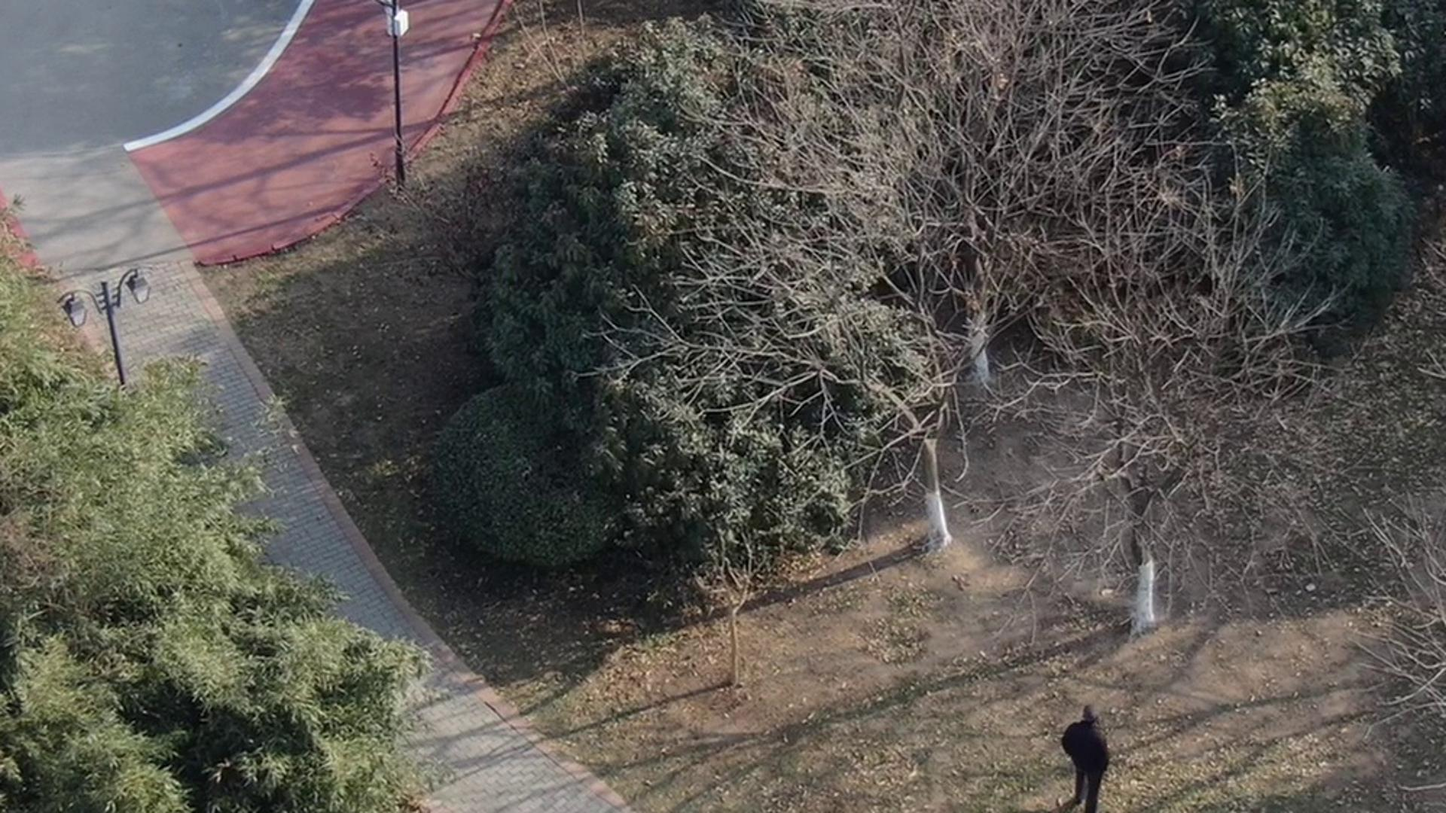human: (1059, 693, 1107, 786)
